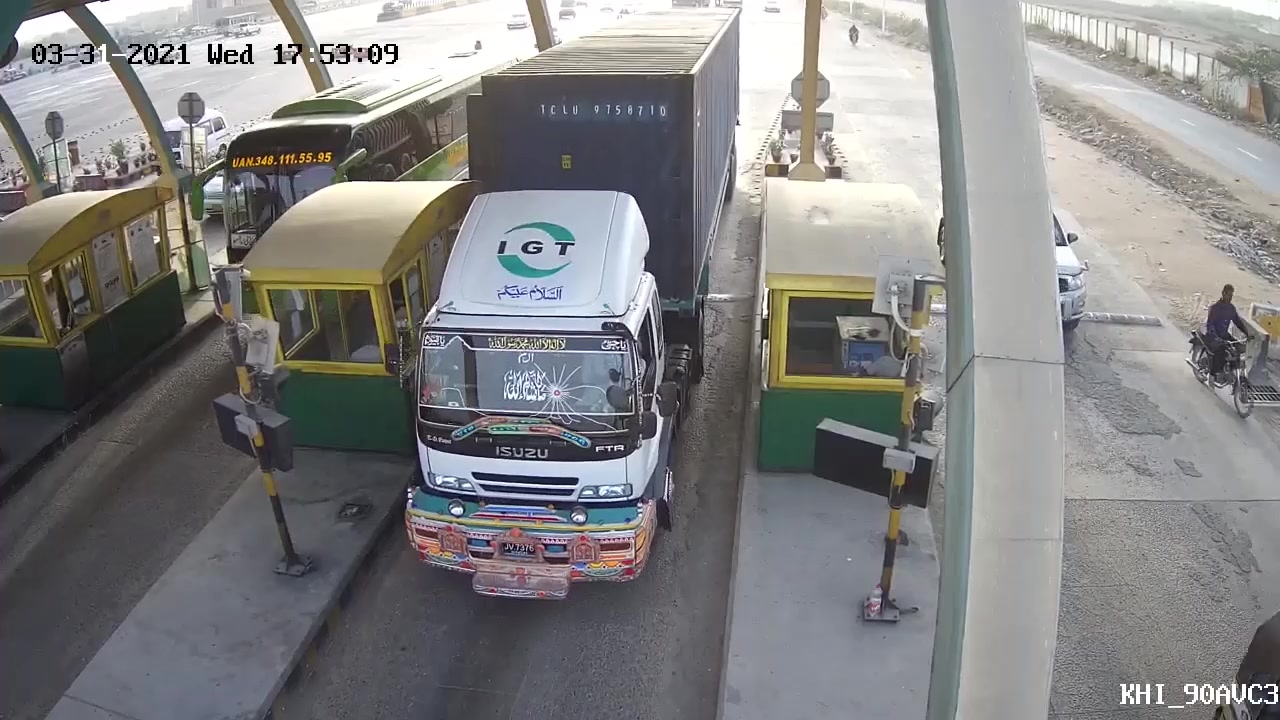F6: (353, 57, 717, 616)
